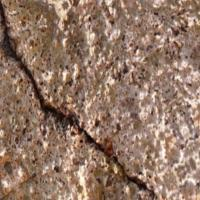crack: (0, 1, 150, 199)
